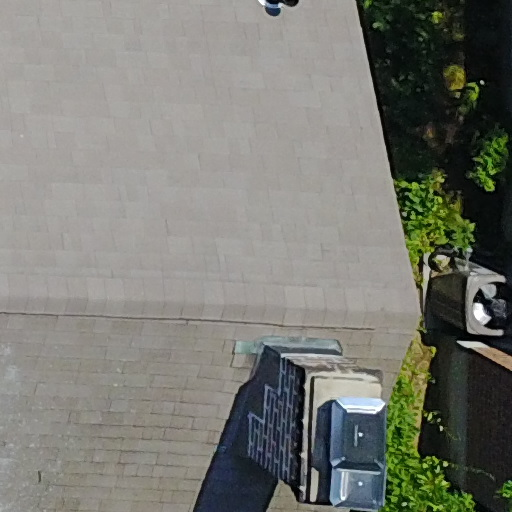air conditioner: (421, 255, 512, 356)
